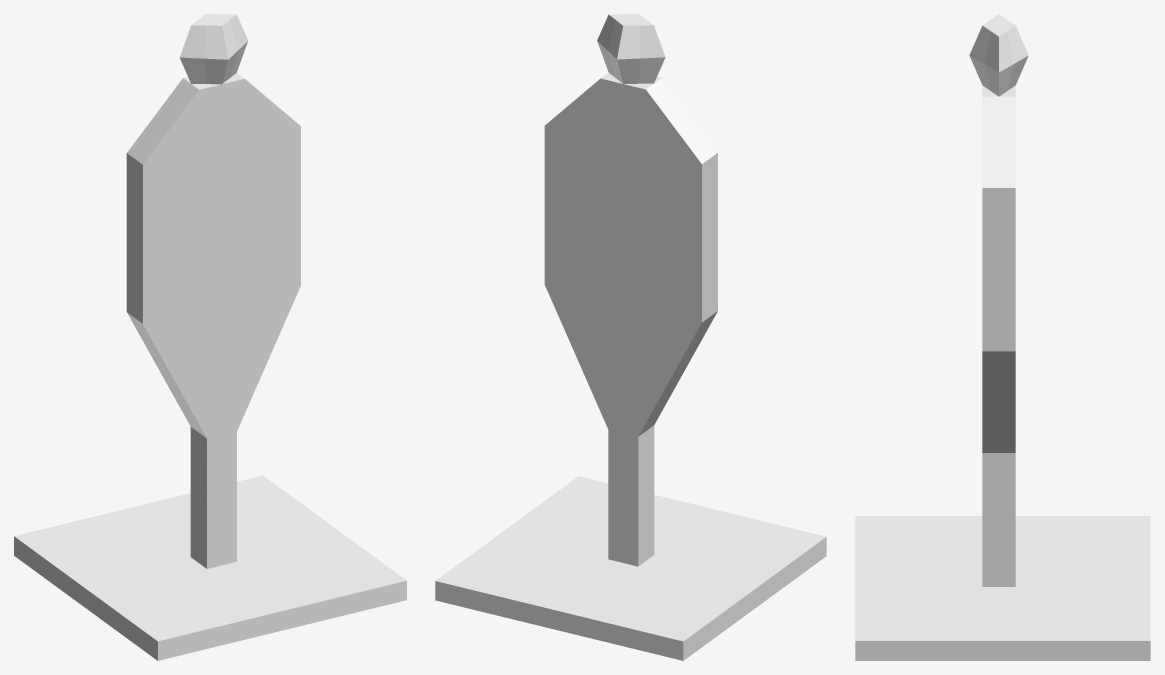
File: Target.glb
The picture shows the model from 3 angles, left to right: view 1: azimuth 30°, elevation 25°; view 2: azimuth 150°, elevation 25°; view 3: azimuth 270°, elevation 25°; orthographic projection. The views are drawn at different scales.
Parts seen in each view (by area): view 1: Cube; view 2: Cube; view 3: Cube.
Part boxes in pixels (x1,y1,x2,y2): Cube: (14,14,406,660); Cube: (435,14,826,660); Cube: (855,14,1150,660).
Bounding box in the file's own units: 2 × 4.29 × 2.
Materials: 1 (1 with a texture image).
